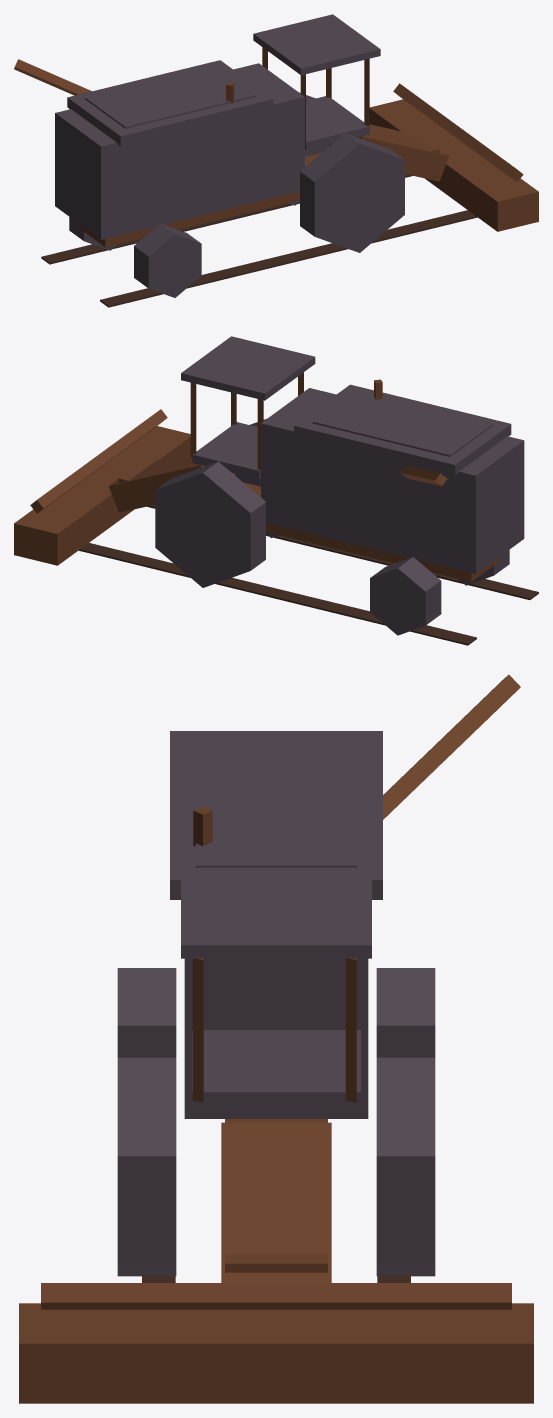
The model's file is model.burned.lod2.glb.
The picture shows the model from 3 angles, top to bottom: view 1: azimuth 30°, elevation 25°; view 2: azimuth 150°, elevation 25°; view 3: azimuth 270°, elevation 25°; orthographic projection. The views are drawn at different scales.
Visible parts, largest first — view 1: body; view 2: body; view 3: body.
Part boxes in pixels (x1,y1,x2,y2): body: (14,14,538,307); body: (14,336,538,645); body: (19,674,533,1403).
Size of the model in its own units: 6.33 by 2.75 by 3.5.
